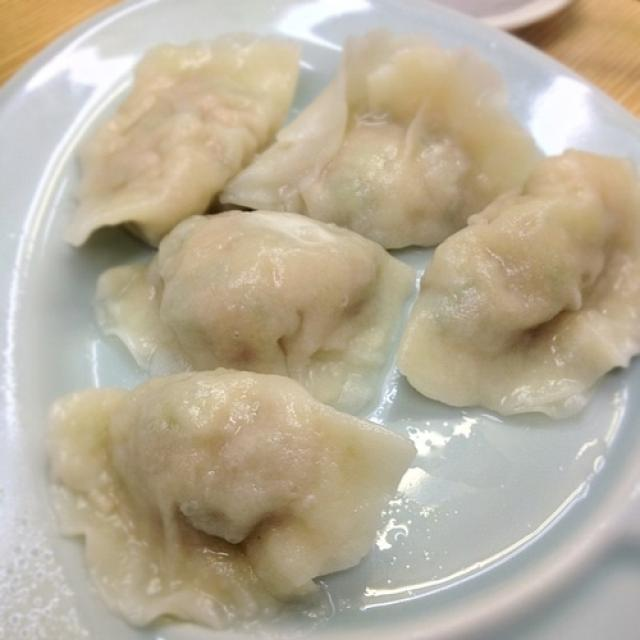带馅早点: (27, 25, 621, 616)
